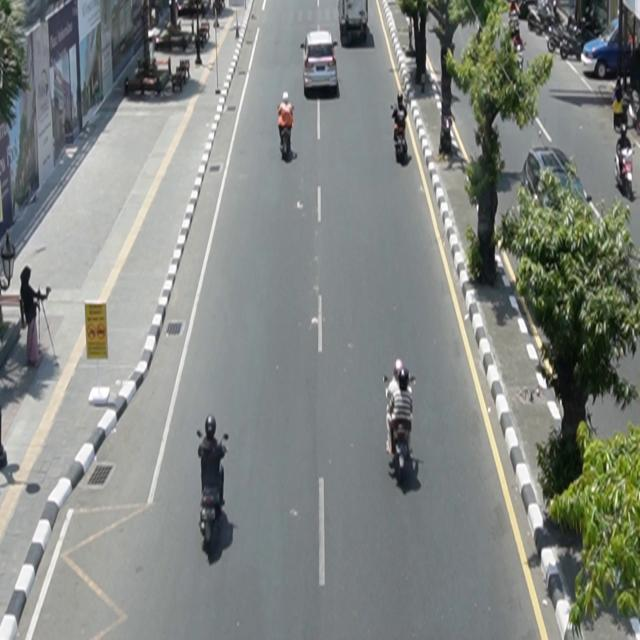car: (582, 17, 637, 80), (301, 31, 339, 95)
